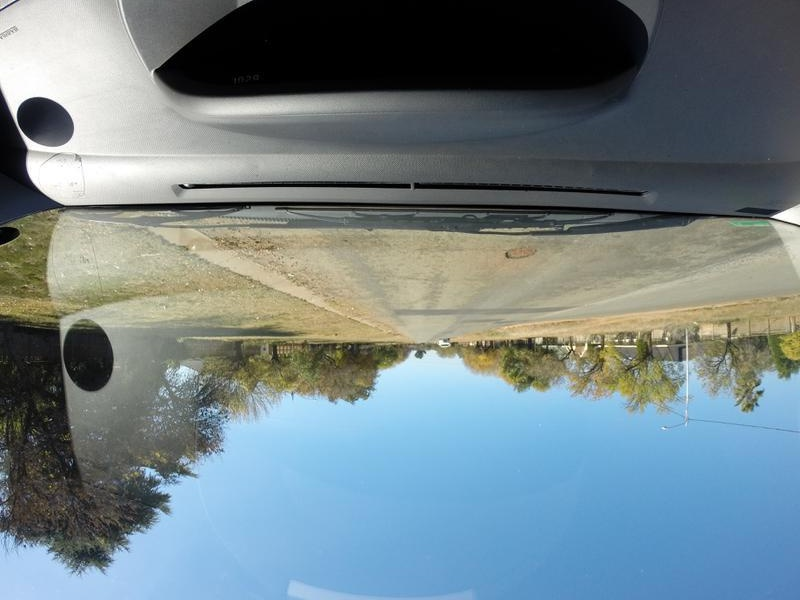pothole: (503, 246, 546, 263)
